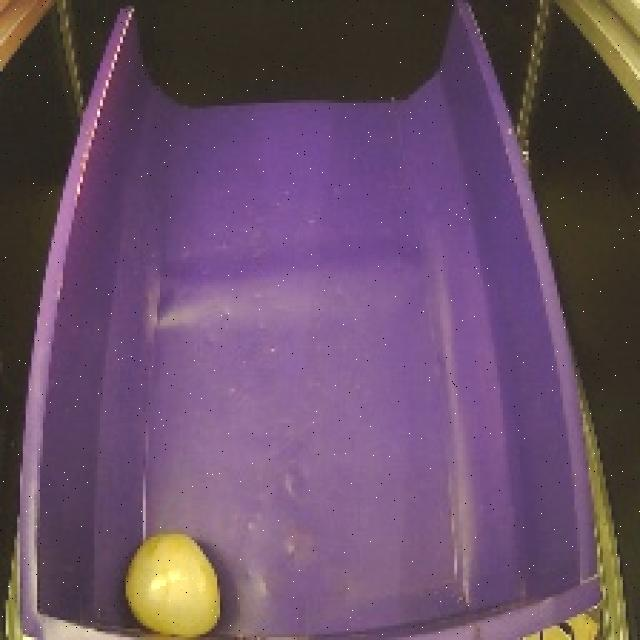cobbles: (117, 521, 230, 638)
